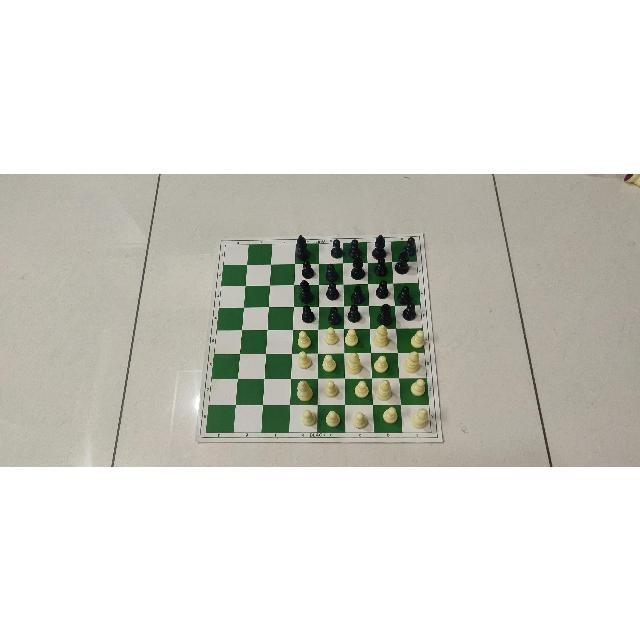black-bishop: (394, 246, 410, 274), (296, 233, 312, 259), (372, 233, 388, 258), (299, 278, 314, 303), (377, 302, 393, 325), (351, 254, 365, 279)
black-pawn: (351, 284, 367, 304), (347, 302, 363, 321), (398, 284, 414, 303), (327, 304, 342, 324), (324, 281, 340, 299), (375, 256, 389, 276), (300, 259, 315, 277), (301, 303, 315, 322), (404, 236, 417, 256), (401, 303, 416, 320), (325, 263, 339, 281), (349, 237, 361, 258), (376, 279, 389, 298), (331, 238, 343, 258)
white-bishop: (409, 407, 428, 429), (402, 349, 420, 372), (296, 378, 313, 401), (345, 352, 362, 374), (374, 378, 391, 400), (373, 324, 388, 347)
white-pawn: (374, 354, 390, 373), (410, 328, 425, 348), (382, 406, 399, 423), (325, 409, 341, 427), (352, 410, 368, 428), (301, 408, 317, 425), (324, 379, 340, 396), (297, 350, 312, 368), (324, 326, 339, 344), (410, 378, 425, 396), (298, 328, 312, 347), (345, 327, 359, 346), (354, 380, 369, 397), (322, 354, 336, 372)
